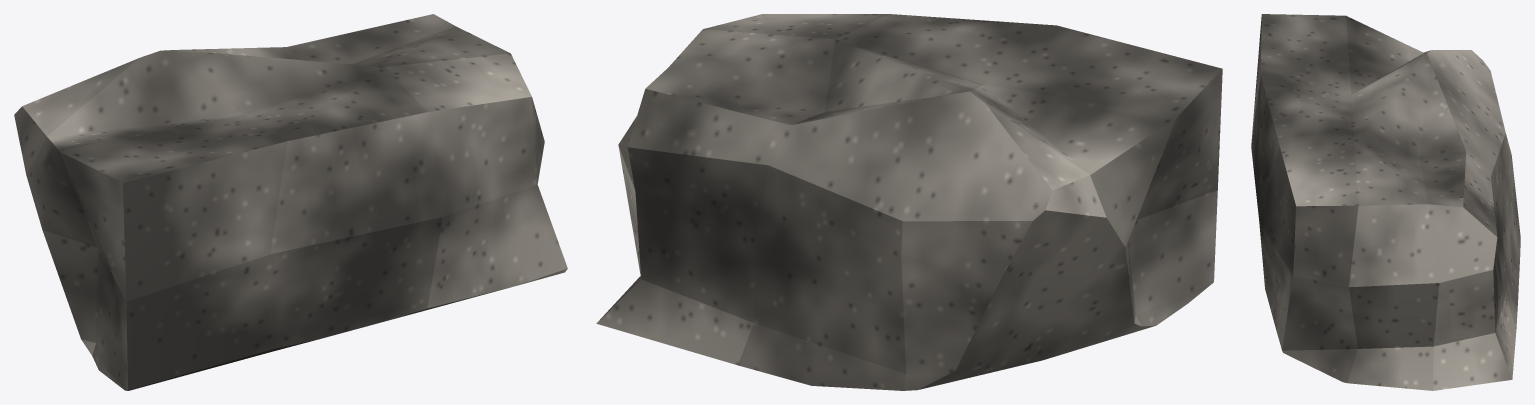
File: rock_medium_01.glb
3 renders of one model, left to right at view 1: azimuth 30°, elevation 25°; view 2: azimuth 150°, elevation 25°; view 3: azimuth 270°, elevation 25°, orthographic. The views are drawn at different scales.
Parts seen in each view (by area): view 1: rock_medium_1; view 2: rock_medium_1; view 3: rock_medium_1.
Part boxes in pixels (x1,y1,x2,y2): rock_medium_1: [14, 14, 567, 390]; rock_medium_1: [596, 14, 1222, 390]; rock_medium_1: [1251, 14, 1520, 390].
Size of the model in its own units: 3.49 by 1.86 by 2.13.
Materials: 1 (1 with a texture image).
